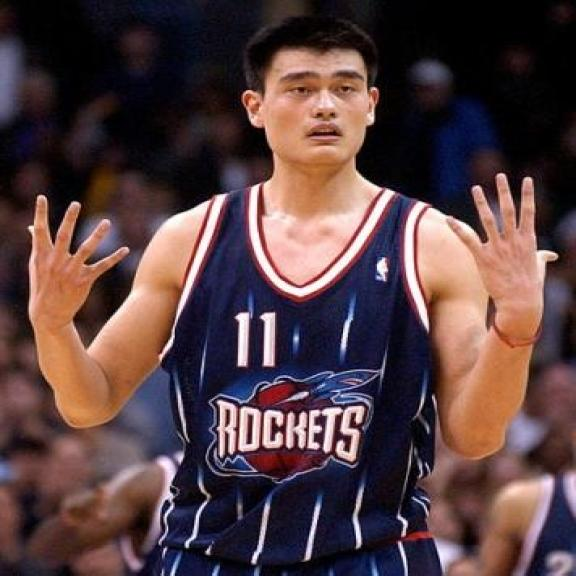face: (241, 45, 382, 174)
